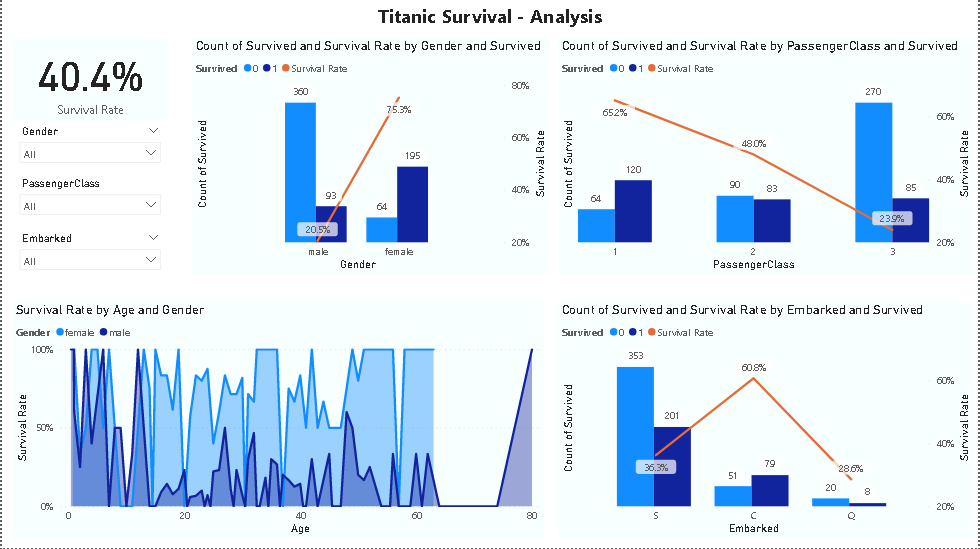

This screenshot's page, from the dashboard's own definition file:
{"tool":"powerbi","page":{"name":"Page 1","canvas":[1280,720],"ordinal":0},"visuals":[{"type":"lineClusteredColumnComboChart","fields":{"Category":["titanic-train.Gender"],"Y":["CountNonNull(titanic-train.Survived)"],"Series":["titanic-train.Survived"],"Y2":["titanic-train.Survival Rate"]},"box":[249.2,50.9,468.1,309.8],"z":0},{"type":"card","fields":{"Values":["titanic-train.Survival Rate"]},"box":[13.8,50.9,205.1,108.8],"z":1000},{"type":"textbox","box":[0,0,1280,51.1],"z":2000},{"type":"slicer","fields":{"Values":["titanic-train.Gender"]},"box":[13.8,159.7,205.1,66.1],"z":3000},{"type":"lineClusteredColumnComboChart","fields":{"Y":["CountNonNull(titanic-train.Survived)"],"Series":["titanic-train.Survived"],"Y2":["titanic-train.Survival Rate"],"Category":["titanic-train.PClass"]},"box":[729.6,50.9,545.2,309.8],"z":4000},{"type":"lineClusteredColumnComboChart","fields":{"Y":["CountNonNull(titanic-train.Survived)"],"Series":["titanic-train.Survived"],"Y2":["titanic-train.Survival Rate"],"Category":["titanic-train.Embarked"]},"box":[729.6,397.9,545.2,309.8],"z":5000},{"type":"areaChart","fields":{"Category":["titanic-train.Age"],"Y":["titanic-train.Survival Rate"],"Series":["titanic-train.Gender"]},"box":[13.8,397.9,696.6,309.8],"z":6000},{"type":"slicer","fields":{"Values":["titanic-train.PassengerClass"]},"box":[13.8,228.5,205.1,71.6],"z":7000},{"type":"slicer","fields":{"Values":["titanic-train.Embarked"]},"box":[13.8,300.1,205.1,71.6],"z":8000}]}

Visuals, with their boxes in screenshot pixels (x1, y1, x2, y2), scaled from the page's 1280x720 canvas onto the 980x549 screenshot:
lineClusteredColumnComboChart - titanic-train.Gender x CountNonNull(titanic-train.Survived): x1=191 y1=39 x2=549 y2=275
card - titanic-train.Survival Rate: x1=11 y1=39 x2=168 y2=122
textbox: x1=0 y1=0 x2=979 y2=39
slicer - titanic-train.Gender: x1=11 y1=122 x2=168 y2=172
lineClusteredColumnComboChart - CountNonNull(titanic-train.Survived) x titanic-train.Survived: x1=559 y1=39 x2=976 y2=275
lineClusteredColumnComboChart - CountNonNull(titanic-train.Survived) x titanic-train.Survived: x1=559 y1=303 x2=976 y2=540
areaChart - titanic-train.Age x titanic-train.Survival Rate: x1=11 y1=303 x2=544 y2=540
slicer - titanic-train.PassengerClass: x1=11 y1=174 x2=168 y2=229
slicer - titanic-train.Embarked: x1=11 y1=229 x2=168 y2=283
